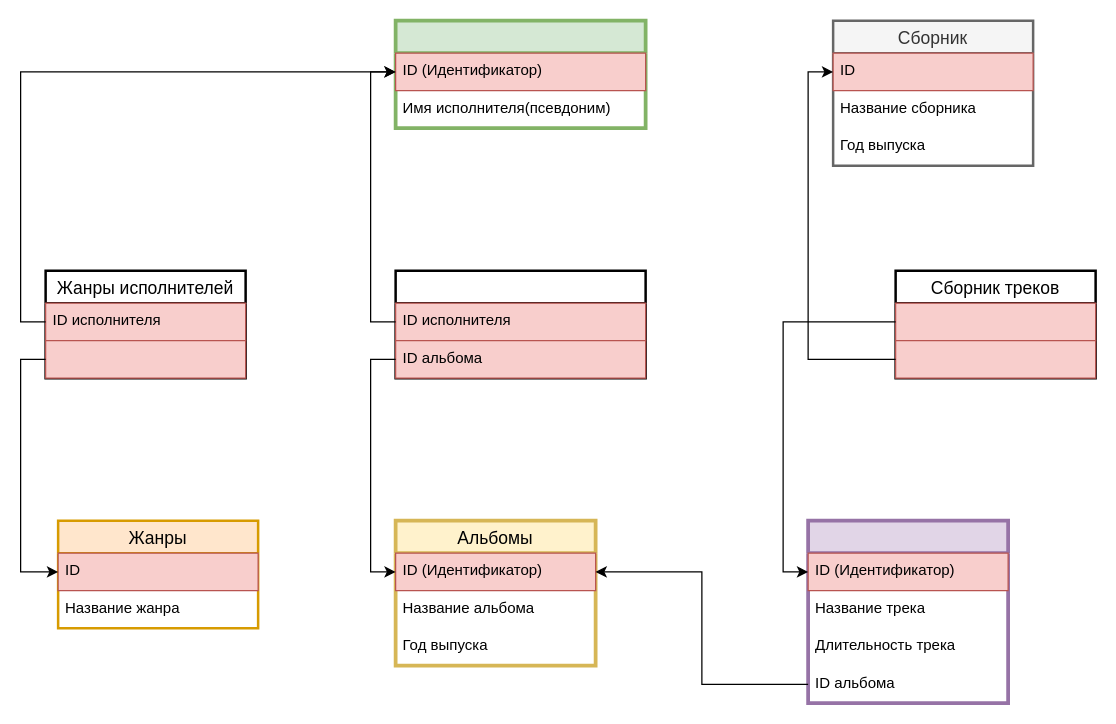
The diagram is 1116 pixels wide and 724 high, and some of its shapes have lost their labels. The shapes that lost their labels are listed below. From the top down, each one's box as (x1, y1, x2, y2) in pixels, then its label:
(393, 18, 647, 129): Исполнитель
(394, 269, 646, 379): Альбомы исполнителей
(894, 302, 1096, 341): ID треков
(44, 339, 246, 378): ID жанра
(894, 339, 1096, 378): ID сборника
(806, 518, 1009, 704): Треки
